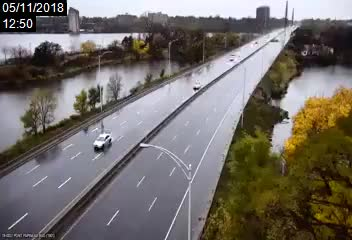personal_car: (94, 133, 112, 151), (193, 81, 202, 91)
